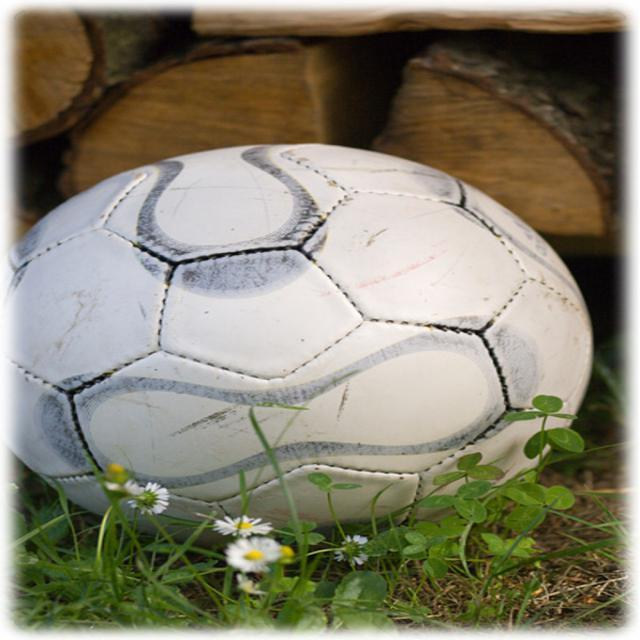football: (28, 135, 615, 580)
